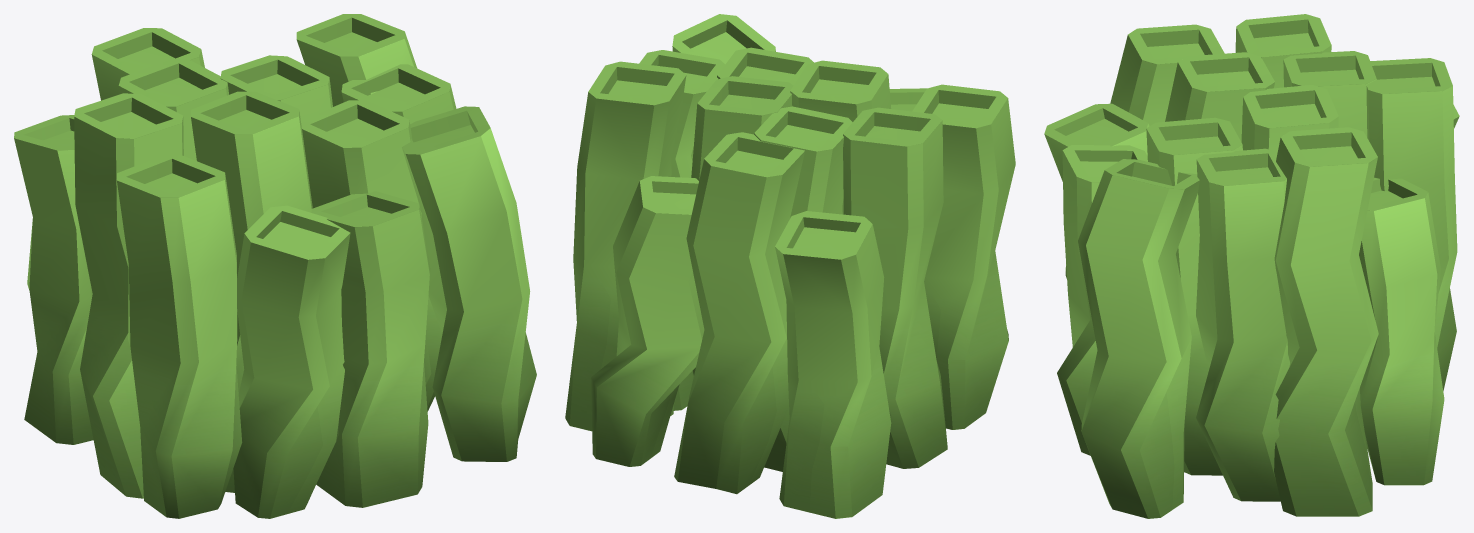
Rendered from AnemoneGreen.fbx.
3 renders of one model, left to right at view 1: azimuth 30°, elevation 25°; view 2: azimuth 150°, elevation 25°; view 3: azimuth 270°, elevation 25°, orthographic. The views are drawn at different scales.
Parts seen in each view (by area): view 1: Green4, Green14, Green8, Green10, Green3, Green5, Green1, Green11, Green12, Green2, Green9, Green13 (+1 smaller); view 2: Green6, Green5, Green3, Green4, Green7, Green12, Green9, Green13, Green1, Green2, Green14, Green11 (+1 smaller); view 3: Green12, Green14, Green2, Green7, Green6, Green11, Green10, Green4, Green1, Green13, Green9, Green3 (+1 smaller).
Part boxes in pixels (x1=…): Green4: x1=116, y1=155, x2=242, y2=518; Green14: x1=402, y1=106, x2=536, y2=461; Green8: x1=233, y1=205, x2=350, y2=518; Green10: x1=311, y1=191, x2=430, y2=507; Green3: x1=74, y1=93, x2=183, y2=498; Green5: x1=14, y1=115, x2=93, y2=444; Green1: x1=191, y1=91, x2=312, y2=492; Green11: x1=301, y1=100, x2=431, y2=384; Green12: x1=296, y1=14, x2=416, y2=106; Green2: x1=341, y1=64, x2=456, y2=411; Green9: x1=118, y1=59, x2=228, y2=160; Green13: x1=220, y1=55, x2=332, y2=122; Green6: x1=674, y1=132, x2=804, y2=494; Green5: x1=775, y1=211, x2=891, y2=518; Green3: x1=843, y1=107, x2=947, y2=468; Green4: x1=912, y1=84, x2=1015, y2=429; Green7: x1=591, y1=176, x2=704, y2=466; Green12: x1=565, y1=61, x2=686, y2=431; Green9: x1=754, y1=106, x2=852, y2=471; Green13: x1=691, y1=76, x2=793, y2=377; Green1: x1=790, y1=60, x2=891, y2=214; Green2: x1=639, y1=50, x2=724, y2=410; Green14: x1=672, y1=14, x2=775, y2=64; Green11: x1=717, y1=47, x2=813, y2=85; Green12: x1=1273, y1=127, x2=1378, y2=516; Green14: x1=1078, y1=159, x2=1199, y2=518; Green2: x1=1196, y1=148, x2=1289, y2=501; Green7: x1=1359, y1=177, x2=1444, y2=485; Green6: x1=1366, y1=58, x2=1457, y2=390; Green11: x1=1146, y1=117, x2=1242, y2=475; Green10: x1=1057, y1=145, x2=1147, y2=455; Green4: x1=1110, y1=24, x2=1224, y2=126; Green1: x1=1165, y1=52, x2=1274, y2=141; Green13: x1=1241, y1=85, x2=1338, y2=151; Green9: x1=1283, y1=51, x2=1376, y2=137; Green3: x1=1235, y1=14, x2=1331, y2=88.
Size of the model in its own units: 0.8145 by 0.7342 by 0.8018.
